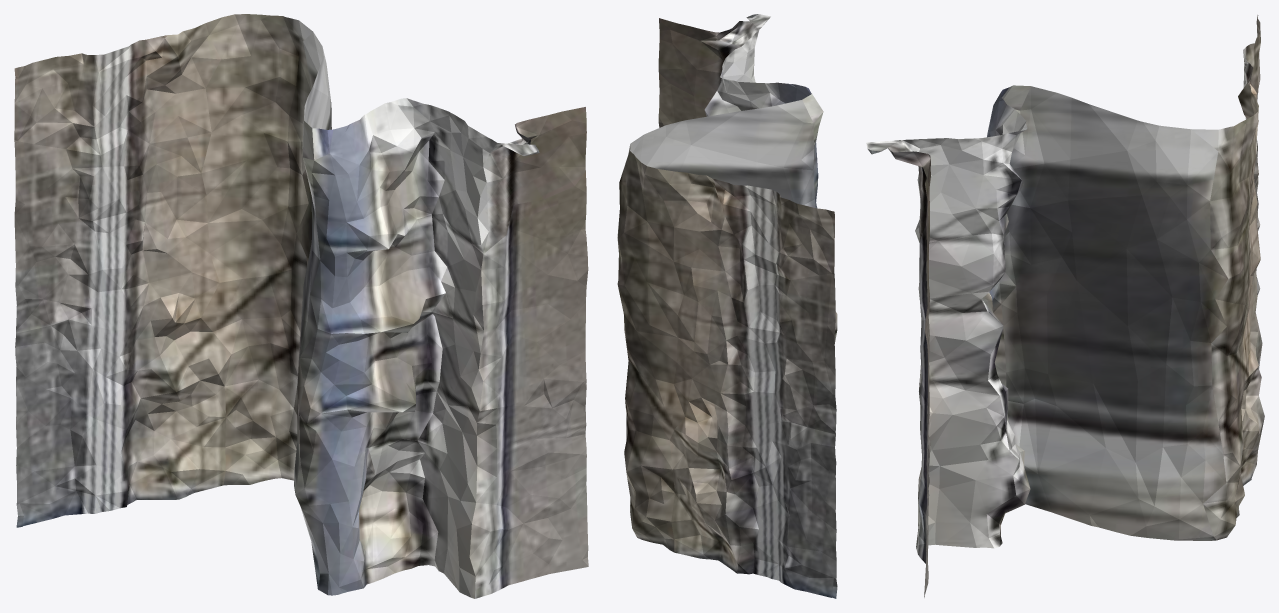
Rendered from tile_5_17_28_tex.obj.
3 views of the same model, side by side, from view 1: azimuth 30°, elevation 25°; view 2: azimuth 150°, elevation 25°; view 3: azimuth 270°, elevation 25° (orthographic). The views are drawn at different scales.
Visible parts, largest first — view 1: obj_0; view 2: obj_0; view 3: obj_0.
Part boxes in pixels (left/top/right/bottom): obj_0: left=14, top=14, right=588, bottom=598; obj_0: left=617, top=14, right=837, bottom=598; obj_0: left=866, top=15, right=1264, bottom=597.
Bounding box in the file's own units: 5.01 × 5.64 × 4.93.
Materials: 1 (1 with a texture image).
